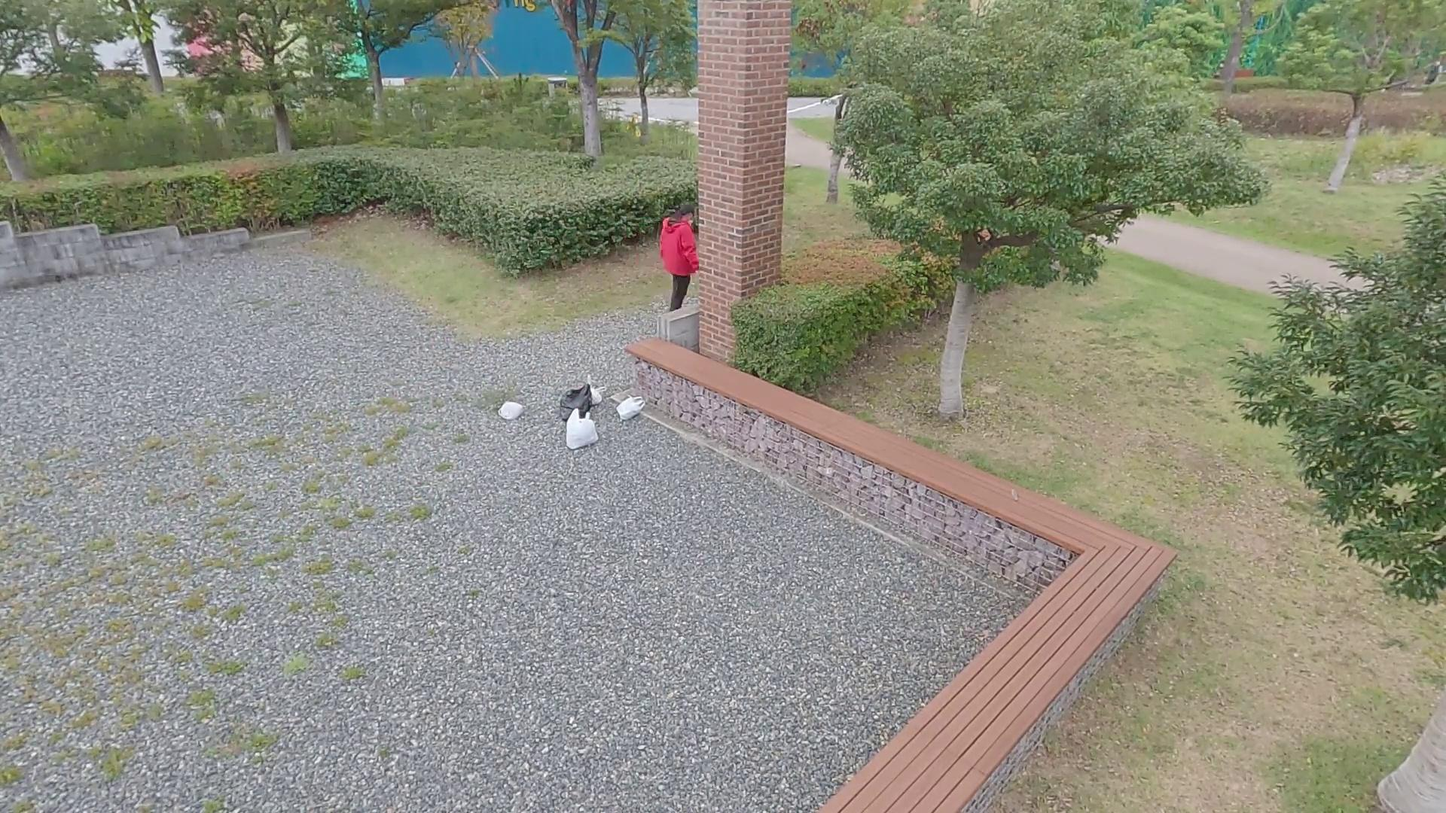person: (655, 192, 705, 323)
trash: (562, 381, 593, 429), (561, 409, 598, 448), (613, 393, 657, 424), (494, 393, 531, 425), (579, 374, 611, 409)
